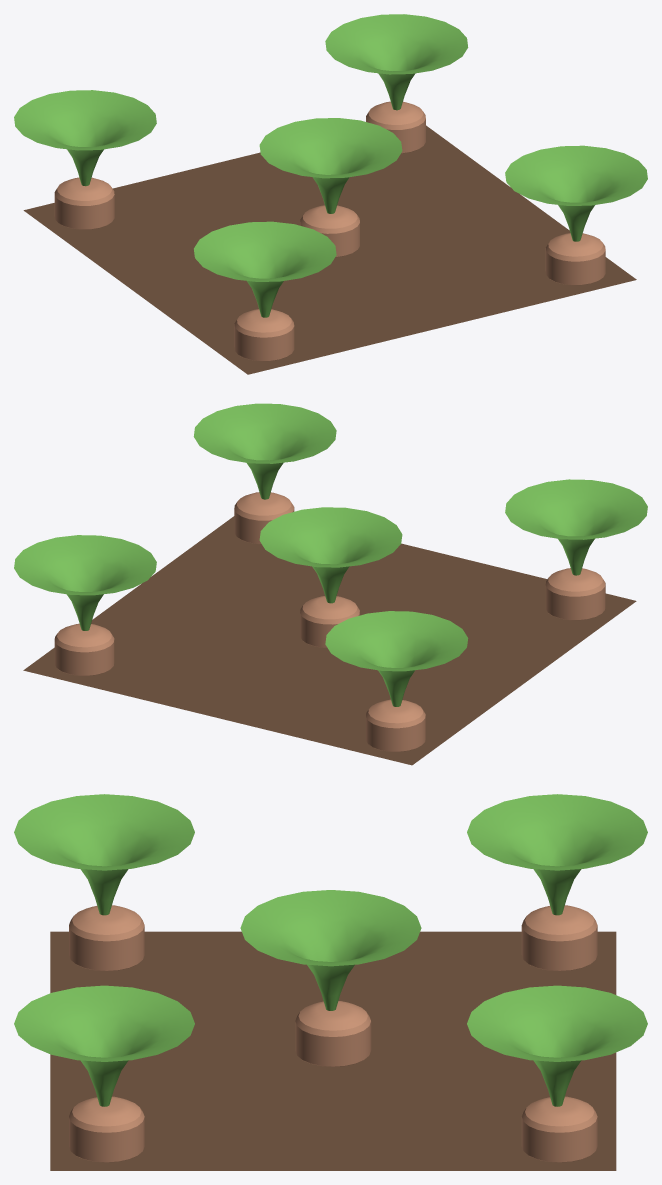
The model's file is carrots_normal.fbx.
The picture shows the model from 3 angles, top to bottom: view 1: azimuth 30°, elevation 25°; view 2: azimuth 150°, elevation 25°; view 3: azimuth 270°, elevation 25°; orthographic projection. The views are drawn at different scales.
Parts seen in each view (by area): view 1: pPlane1, nurbsToPoly1 (×5), pCylinder36 (×5); view 2: pPlane1, nurbsToPoly1 (×5), pCylinder36 (×5); view 3: pPlane1, nurbsToPoly1 (×5), pCylinder36 (×5).
Part boxes in pixels (x1,y1,x2,y2): pPlane1: (23, 125, 636, 374); nurbsToPoly1 (×5): (14, 14, 647, 317); pCylinder36 (×5): (54, 101, 605, 361); pPlane1: (23, 516, 636, 765); nurbsToPoly1 (×5): (14, 403, 647, 706); pCylinder36 (×5): (54, 492, 605, 751); pPlane1: (50, 931, 616, 1170); nurbsToPoly1 (×5): (14, 794, 647, 1106); pCylinder36 (×5): (69, 905, 597, 1162).
Size of the model in its own units: 2.8 by 0.6002 by 2.8.
